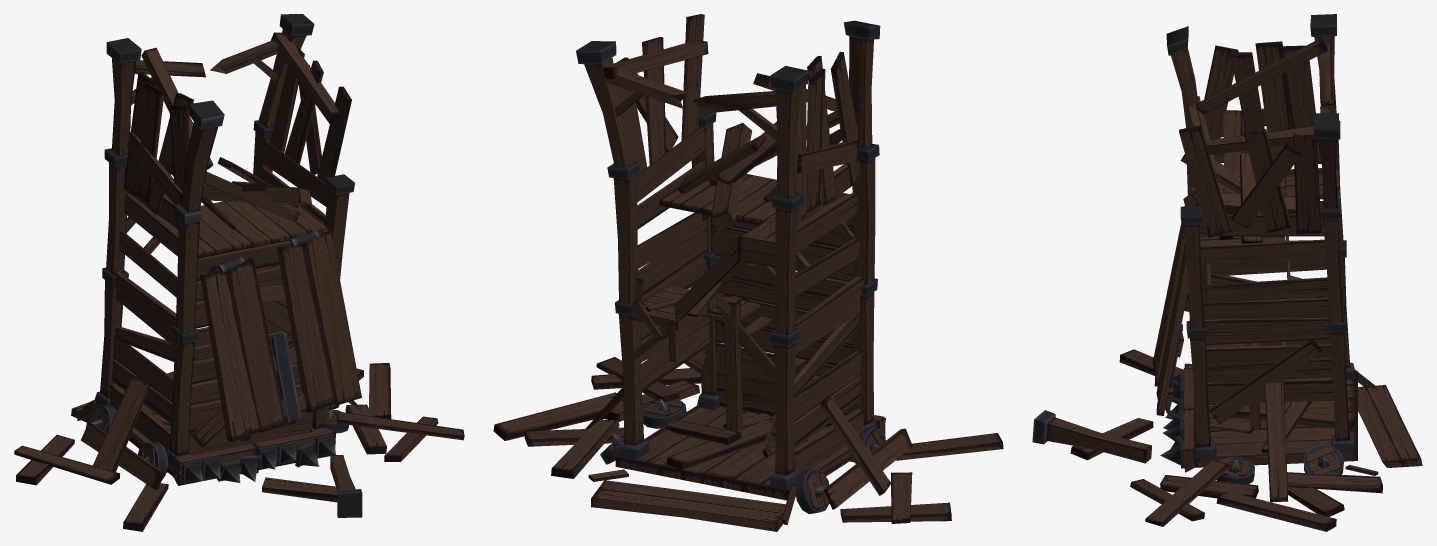
Rendered from SM_PROP_siegetower_broken_battle.fbx.
3 renders of one model, left to right at view 1: azimuth 30°, elevation 25°; view 2: azimuth 150°, elevation 25°; view 3: azimuth 270°, elevation 25°, orthographic. The views are drawn at different scales.
Parts seen in each view (by area): view 1: SM_PROP_siegetower_broken_battle; view 2: SM_PROP_siegetower_broken_battle; view 3: SM_PROP_siegetower_broken_battle.
Boxes of the visible parts, bbox=[...] form: SM_PROP_siegetower_broken_battle: bbox=[14, 14, 464, 531]; SM_PROP_siegetower_broken_battle: bbox=[493, 14, 1003, 531]; SM_PROP_siegetower_broken_battle: bbox=[1032, 14, 1422, 531].
Size of the model in its own units: 1164 by 1110 by 1011.
